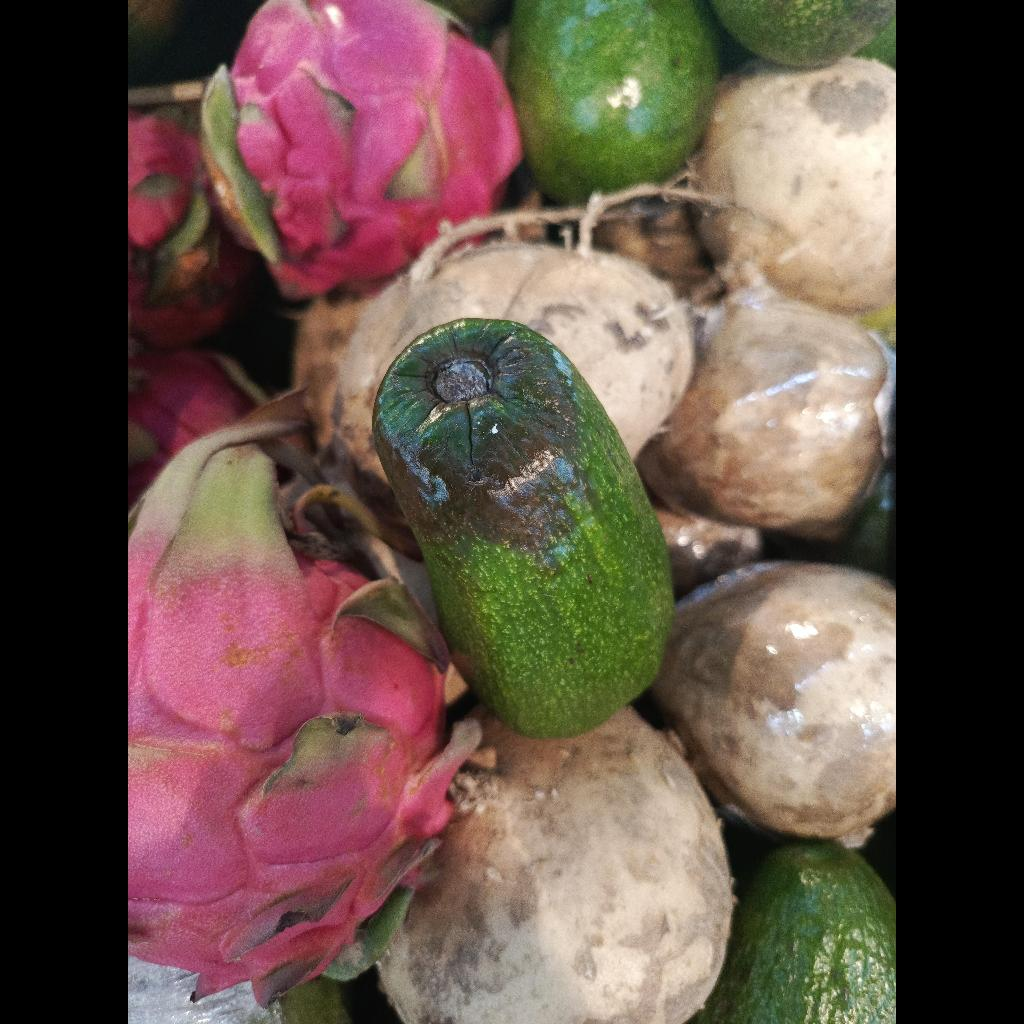stem end rot: (373, 319, 673, 738)
